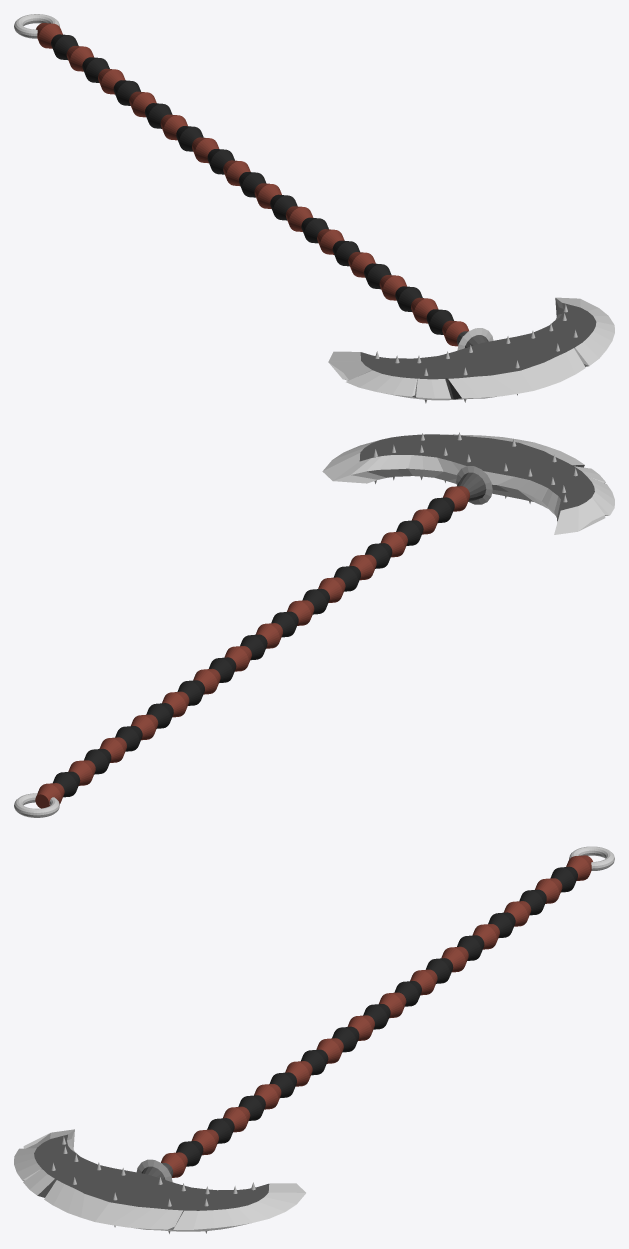
The model's file is axe.fbx.
The picture shows the model from 3 angles, top to bottom: view 1: azimuth 30°, elevation 25°; view 2: azimuth 150°, elevation 25°; view 3: azimuth 330°, elevation 25°; orthographic projection.
Visible parts, largest first — view 1: Torus; view 2: Torus; view 3: Torus.
Boxes of the visible parts, x1,y1,x2,y2 form: Torus: (14,14,614,403); Torus: (14,432,614,817); Torus: (14,846,614,1233).
Size of the model in its own units: 1670 by 231 by 5534.
